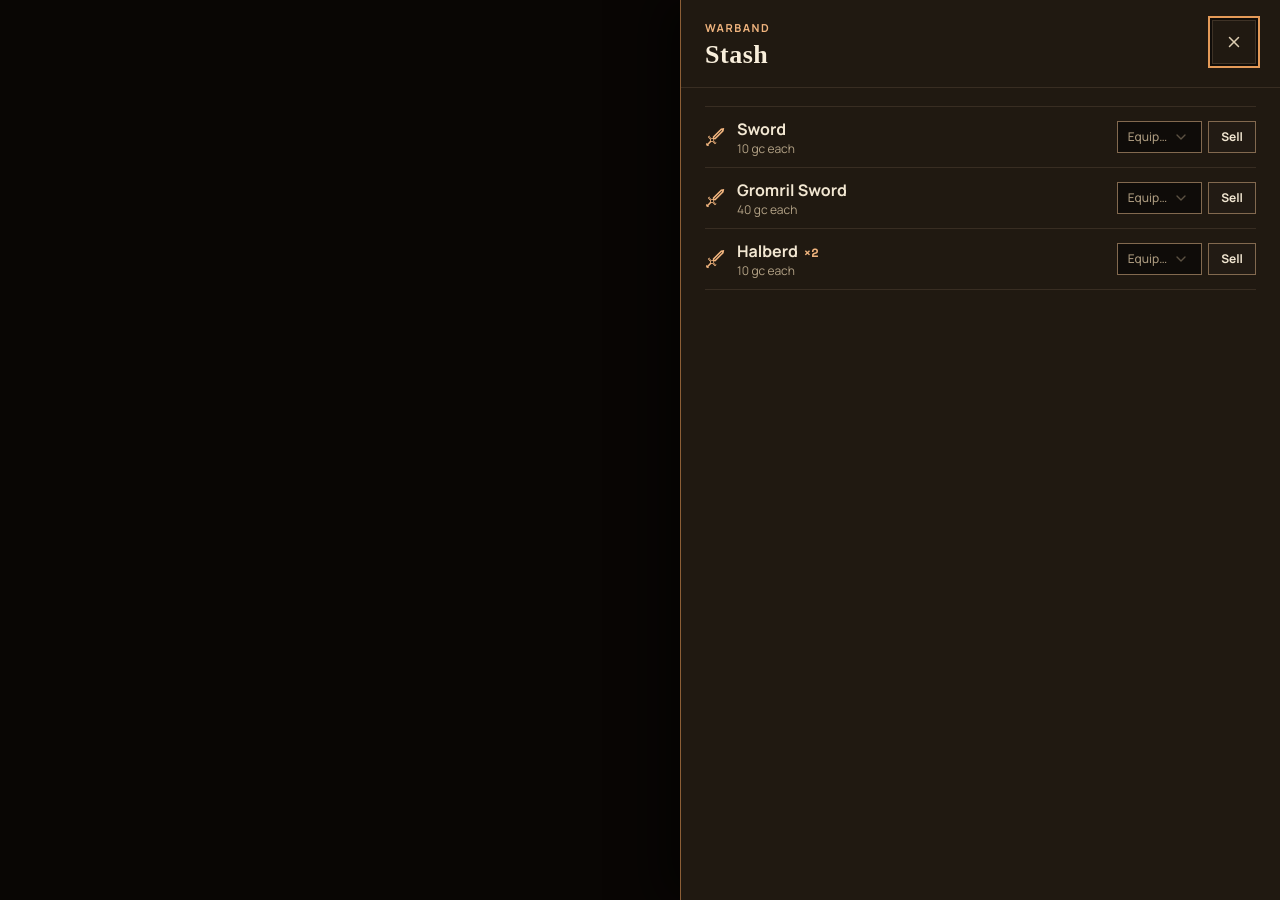
Scenario: Selling from the stash › asks the price first, the suggested one in place, as a unit's item does
Later steps or results of the test are not shown.
Click the 3rd button "Sell": (1232,259) [1208,243,1256,275]
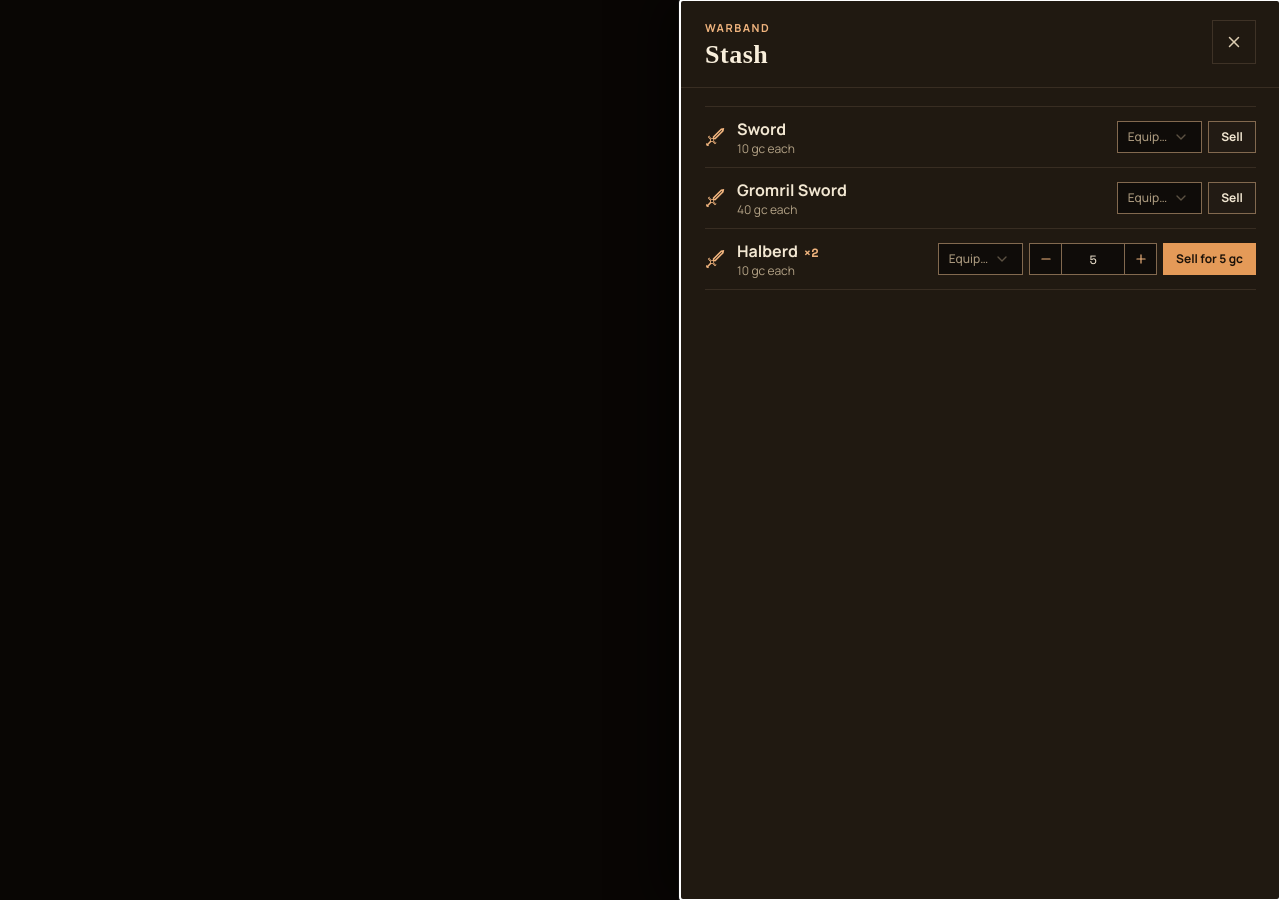
expect the number field named "Sale price" holds "5": met, box [1061,243,1125,275]
